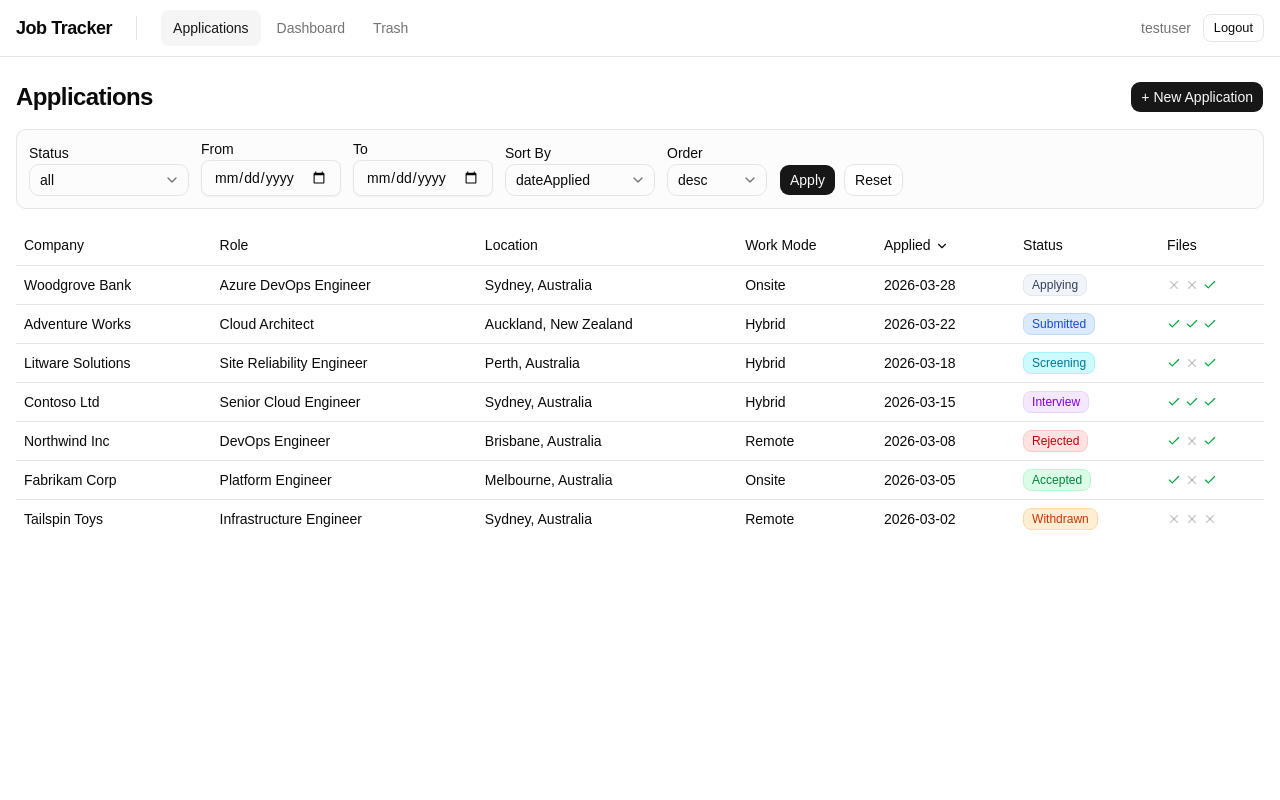
Test: ApplicationsPage › opens the create modal when clicking New Application
Click the button "+ New Application": (1197, 97) [1130,81,1264,113]
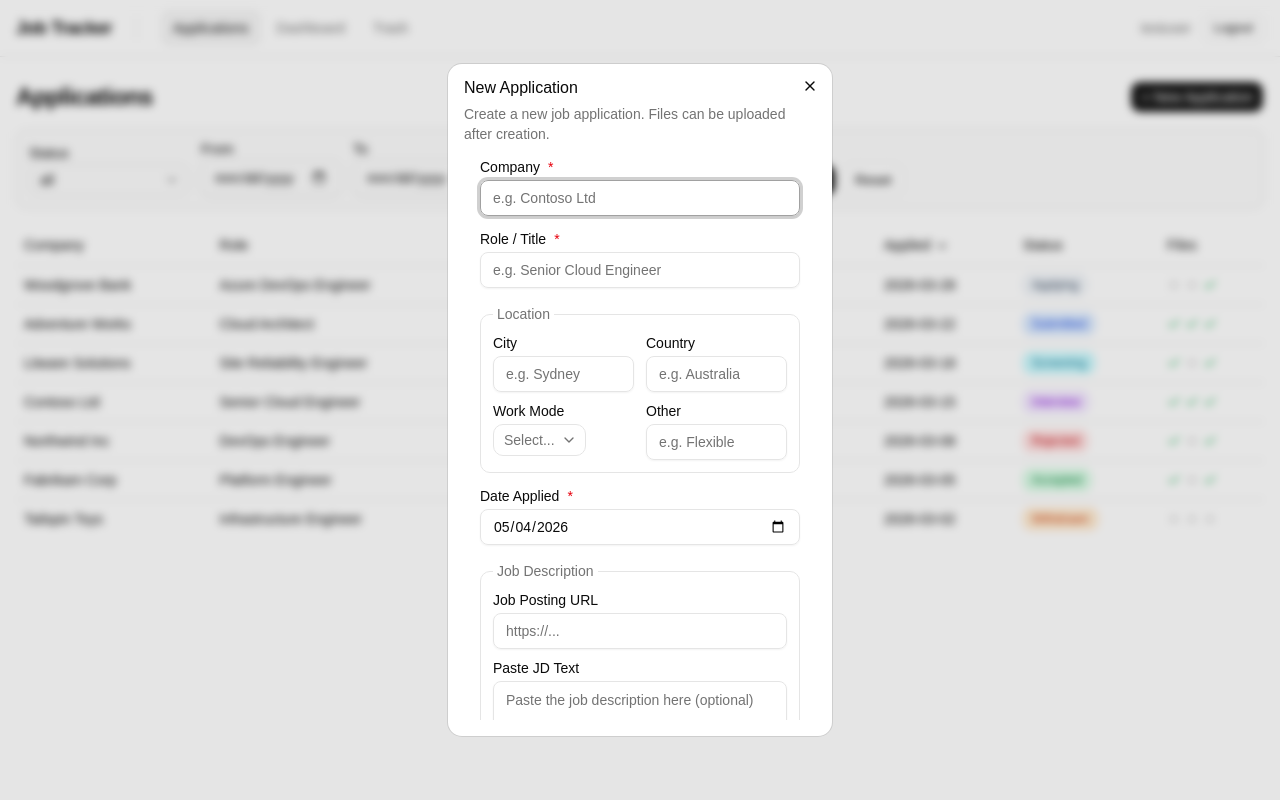
Expected: the heading "New Application" is shown, [464,79,578,96]
